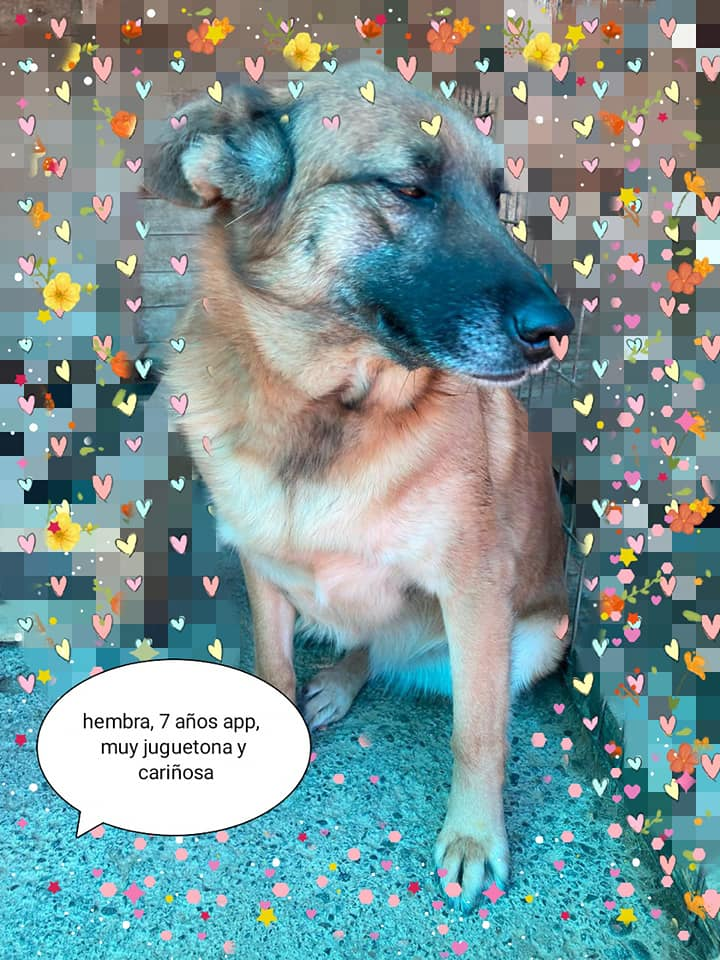dog: (143, 44, 582, 674)
